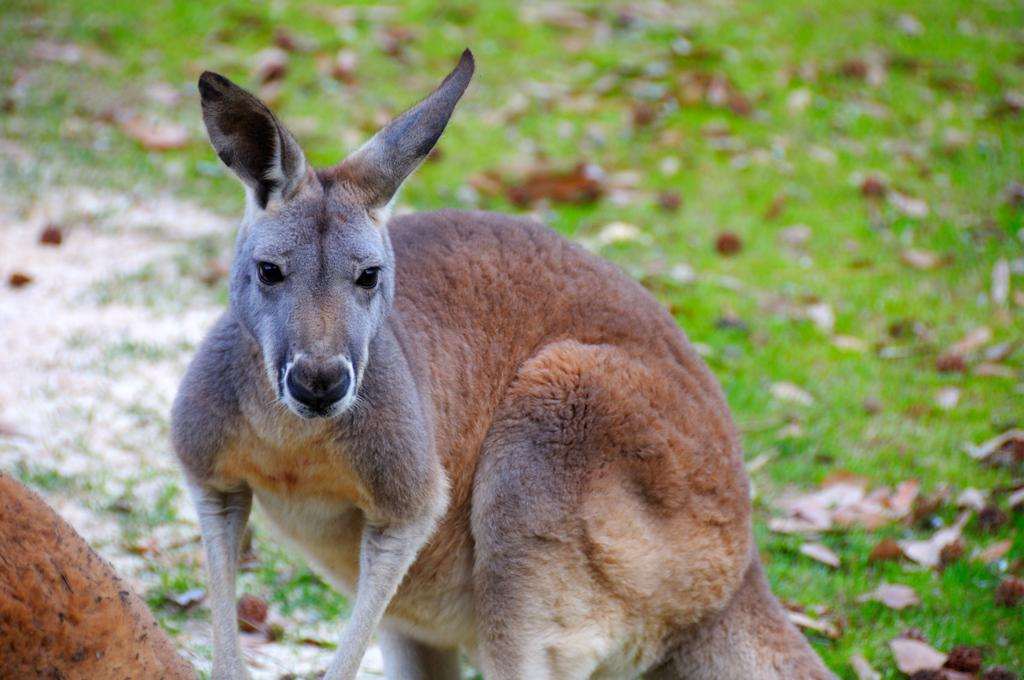kangaroo: (171, 44, 841, 680)
